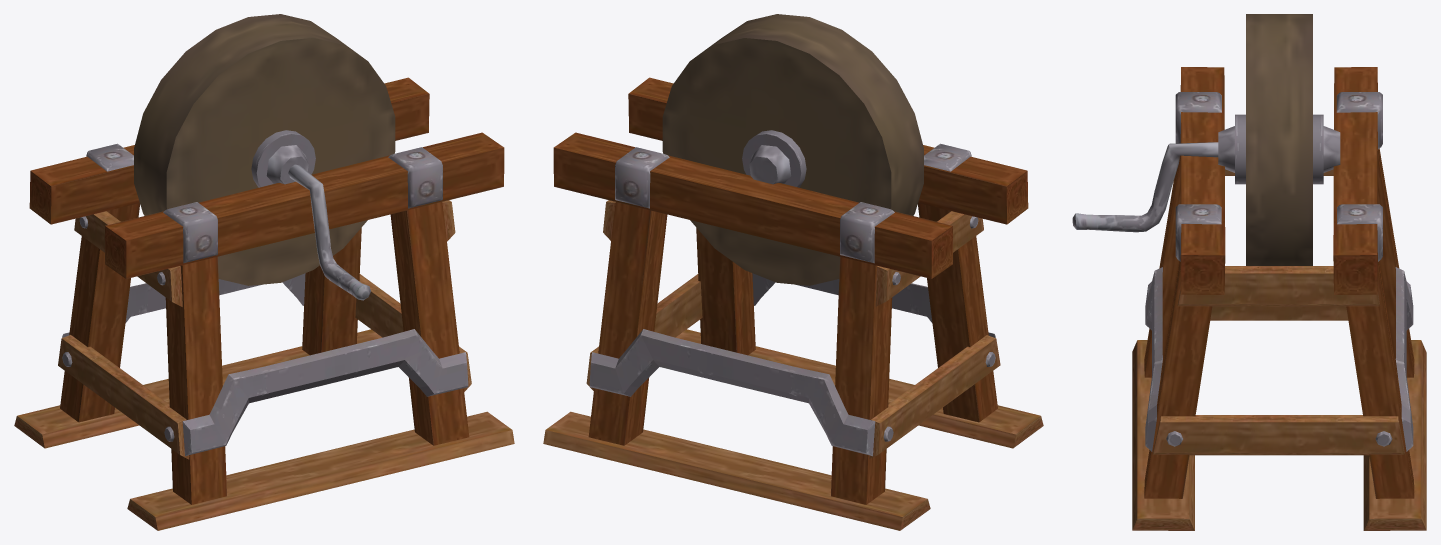
The model's file is Whetstone.gltf.
3 renders of one model, left to right at view 1: azimuth 30°, elevation 25°; view 2: azimuth 150°, elevation 25°; view 3: azimuth 270°, elevation 25°, orthographic. The views are drawn at different scales.
Visible parts, largest first — view 1: Whetstone; view 2: Whetstone; view 3: Whetstone.
Boxes of the visible parts, box(x1,y1,x2,y2) form: Whetstone: box(14, 14, 514, 530); Whetstone: box(543, 14, 1043, 530); Whetstone: box(1072, 14, 1426, 530).
Bounding box in the file's own units: 1.14 × 1.17 × 0.9018.
Materials: 3 (3 with a texture image).
